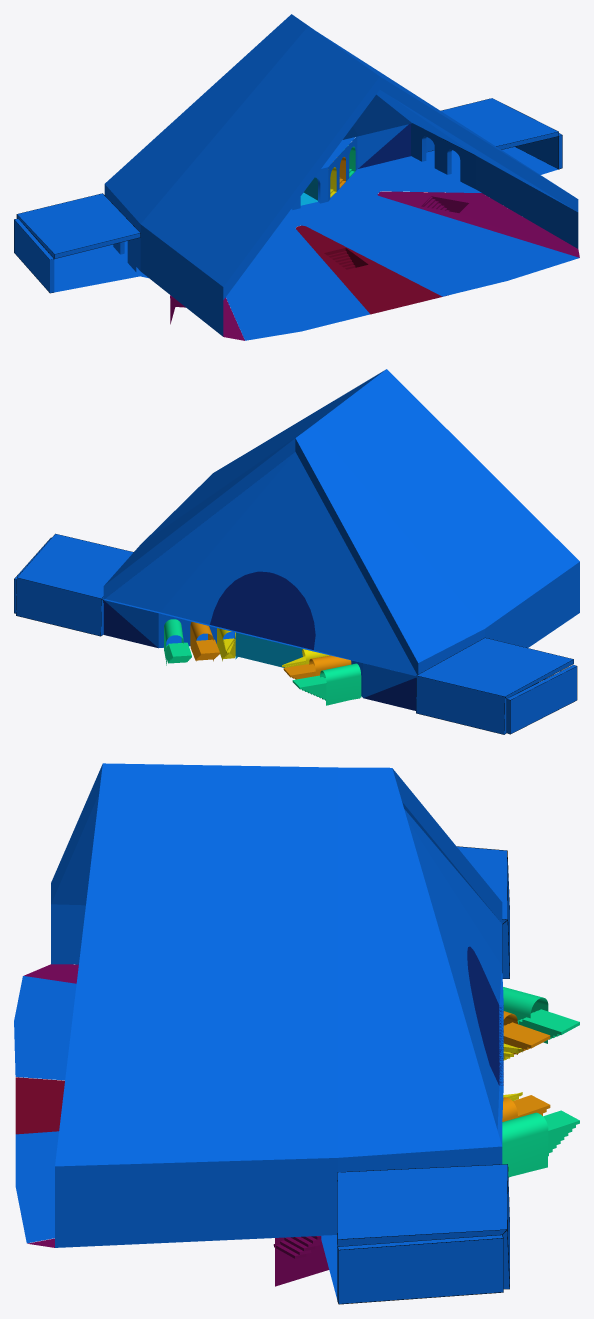
File: mainroom_nolines.fbx
3 renders of one model, top to bottom at view 1: azimuth 30°, elevation 25°; view 2: azimuth 150°, elevation 25°; view 3: azimuth 270°, elevation 25°, orthographic. The views are drawn at different scales.
Parts seen in each view (by area): view 1: roof, floor, walls, wing1, vhsape, sing2, Plane.016, walls.006, wall, walls.003, wall.002, stairwellarh1; view 2: roof, wing1, sing2, walls, stairwellarh1, innerroom, wall, stairsup1, stairsup6; view 3: roof, sing2, walls, floor, stairwellarh1, Plane.016, wing1, stairwell3, stairsup1, stairsup2, vhsape, stairsup6 (+1 smaller).
Boxes of the visible parts, x1,y1,x2,y2 form: roof: (104,14,578,300); floor: (44,147,579,340); walls: (140,123,578,336); wing1: (14,193,140,293); vhsape: (223,191,579,340); sing2: (426,98,562,169); Plane.016: (296,225,448,314); walls.006: (411,123,475,189); wall: (328,136,357,201); walls.003: (113,237,140,271); wall.002: (291,167,328,209); stairwellarh1: (330,146,355,191); roof: (103,369,579,676); wing1: (416,637,577,734); sing2: (14,533,133,636); walls: (103,575,579,710); stairwellarh1: (164,619,361,705); innerroom: (235,632,302,667); wall: (158,613,362,697); stairsup1: (292,675,360,700); stairsup6: (164,642,191,663); roof: (51,763,503,1187); sing2: (337,1164,509,1304); walls: (51,904,337,1247); floor: (14,976,337,1299); stairwellarh1: (502,987,548,1176); Plane.016: (15,1077,64,1134); wing1: (457,846,509,978); stairwell3: (275,1237,329,1286); stairsup1: (517,1009,579,1040); stairsup2: (503,1022,550,1054); vhsape: (24,964,78,1247); stairsup6: (509,1110,579,1177).
Size of the model in its own units: 3926 by 1886 by 2299.
